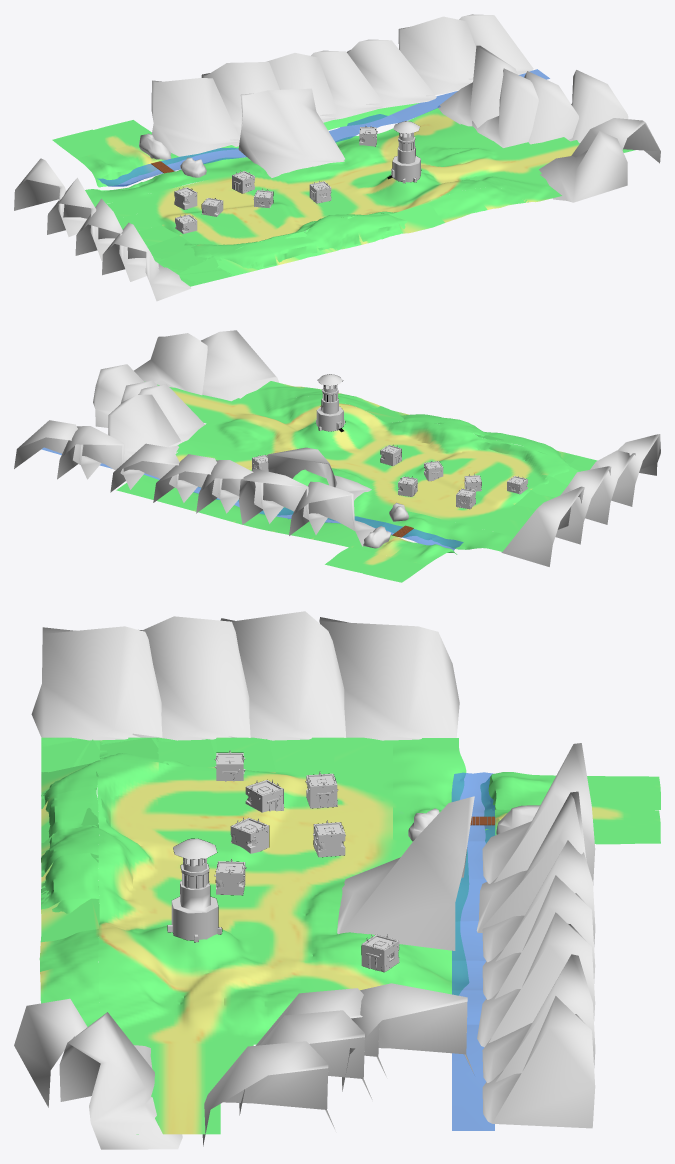
File: Blockout.fbx
The picture shows the model from 3 angles, top to bottom: view 1: azimuth 30°, elevation 25°; view 2: azimuth 150°, elevation 25°; view 3: azimuth 270°, elevation 25°; orthographic projection. The views are drawn at different scales.
Parts seen in each view (by area): view 1: Terrain, Montain.010, Montain.001, Montain.006, Montain, Montain.005, Waters, Montain.012, Montain.011, Montain.004, Montain.002, Montain.017 (+15 smaller); view 2: Terrain, Montain, Montain.018, Montain.014, Montain.011, Montain.002, Montain.001, Montain.010, Montain.005, Montain.017, Montain.003, Montain.004 (+13 smaller); view 3: Terrain, Montain.014, Montain.017, Montain.010, Montain.015, Montain.016, Montain.018, Montain.007, Waters, Montain.020, Montain.011, Montain.001 (+17 smaller).
Part boxes in pixels (bbox=[...]): Terrain: bbox=[52, 103, 635, 286]; Montain.010: bbox=[238, 88, 344, 177]; Montain.001: bbox=[151, 78, 239, 156]; Montain.006: bbox=[398, 16, 476, 96]; Montain: bbox=[539, 131, 627, 202]; Montain.005: bbox=[347, 39, 436, 108]; Waters: bbox=[97, 69, 549, 186]; Montain.012: bbox=[472, 68, 538, 147]; Montain.011: bbox=[438, 45, 517, 127]; Montain.004: bbox=[311, 50, 383, 119]; Montain.002: bbox=[201, 62, 279, 146]; Montain.017: bbox=[102, 222, 191, 301]; Terrain: bbox=[116, 381, 597, 582]; Montain: bbox=[201, 330, 279, 401]; Montain.018: bbox=[134, 333, 207, 395]; Montain.014: bbox=[501, 486, 584, 566]; Montain.011: bbox=[108, 395, 180, 462]; Montain.002: bbox=[239, 468, 327, 534]; Montain.001: bbox=[289, 481, 375, 546]; Montain.010: bbox=[267, 447, 371, 500]; Montain.005: bbox=[110, 443, 197, 502]; Montain.017: bbox=[611, 434, 660, 506]; Montain.003: bbox=[196, 460, 283, 523]; Montain.004: bbox=[153, 454, 239, 513]; Terrain: bbox=[39, 737, 660, 1134]; Montain.014: bbox=[319, 617, 459, 740]; Montain.017: bbox=[31, 626, 162, 740]; Montain.010: bbox=[337, 796, 474, 950]; Montain.015: bbox=[220, 611, 346, 740]; Montain.016: bbox=[132, 616, 250, 740]; Montain.018: bbox=[59, 1012, 182, 1149]; Montain.007: bbox=[482, 996, 595, 1128]; Waters: bbox=[451, 772, 495, 1130]; Montain.020: bbox=[202, 1041, 334, 1146]; Montain.011: bbox=[342, 983, 473, 1091]; Montain.001: bbox=[482, 743, 595, 885].
Bounding box in the file's own units: 142 × 22.05 × 88.3.
